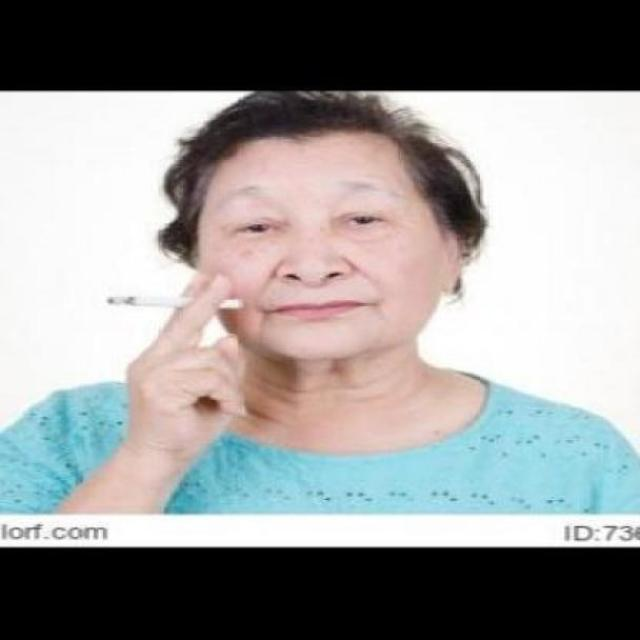rokok: (104, 290, 250, 316)
